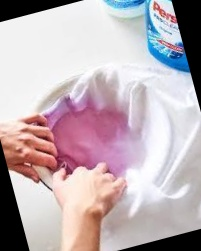wine: (46, 100, 141, 191)
